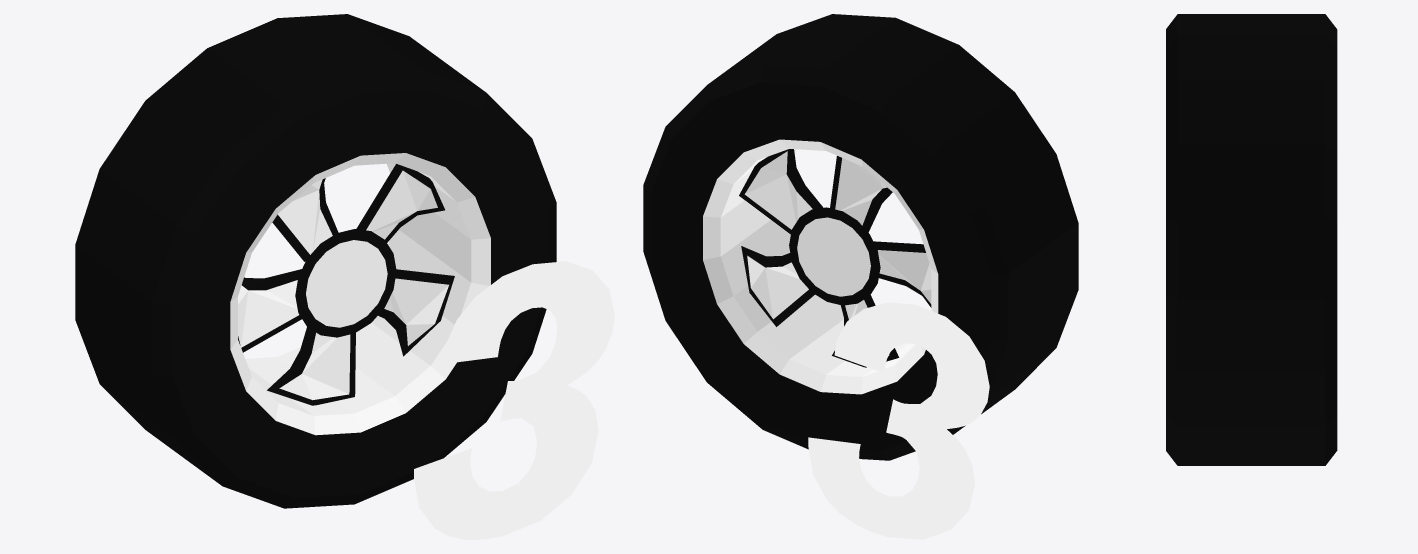
File: ps2_save-icons_tocaracedriver3.glb
The picture shows the model from 3 angles, left to right: view 1: azimuth 30°, elevation 25°; view 2: azimuth 150°, elevation 25°; view 3: azimuth 270°, elevation 25°; orthographic projection. The views are drawn at different scales.
Parts seen in each view (by area): view 1: Icon.ICN; view 2: Icon.ICN; view 3: Icon.ICN.
Boxes of the visible parts, x1,y1,x2,y2 form: Icon.ICN: (75,14,614,539); Icon.ICN: (643,14,1078,539); Icon.ICN: (1166,14,1337,465).
Bounding box in the file's own units: 4.89 × 4.84 × 2.95.
Materials: 1 (1 with a texture image).
